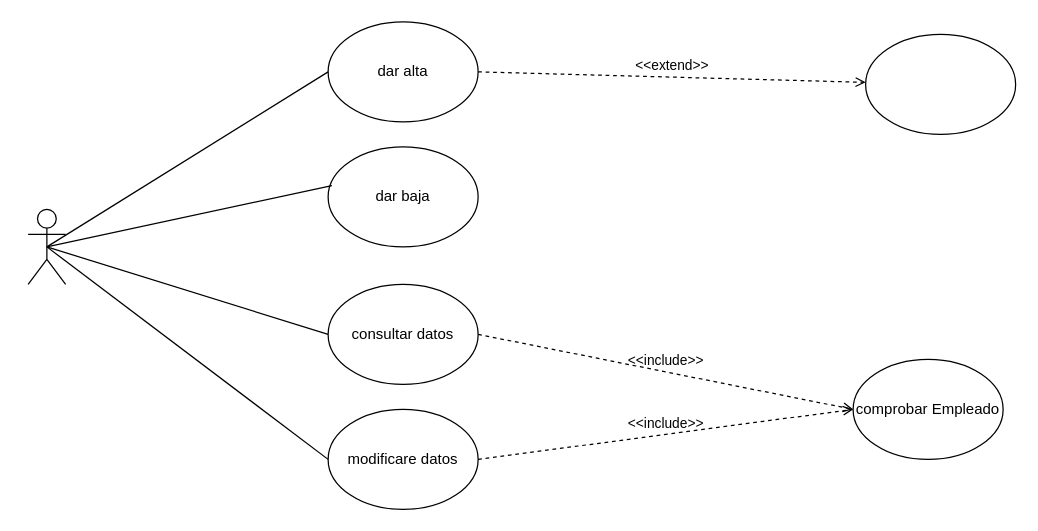
Image size: 1038x531. Some labels were removed from this diagram. Each missing label, with the box of its shape:
director: (27, 208, 66, 284)
localizar datos: (864, 33, 1016, 134)
